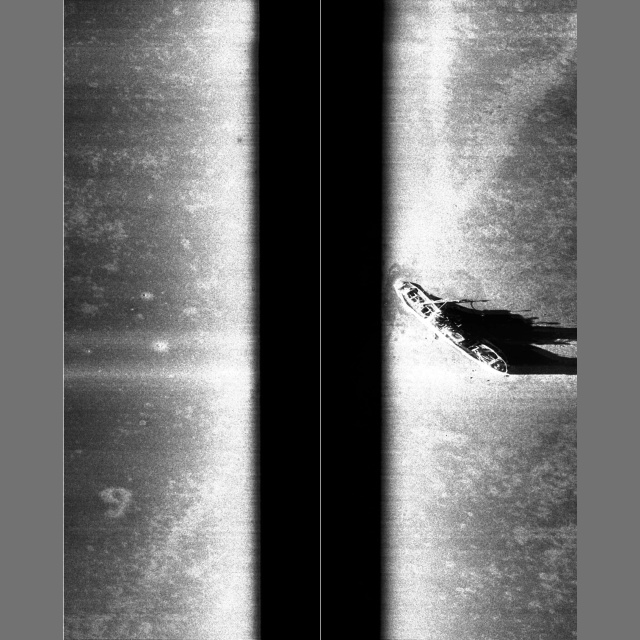Shipwreck: (393, 279, 510, 376)
